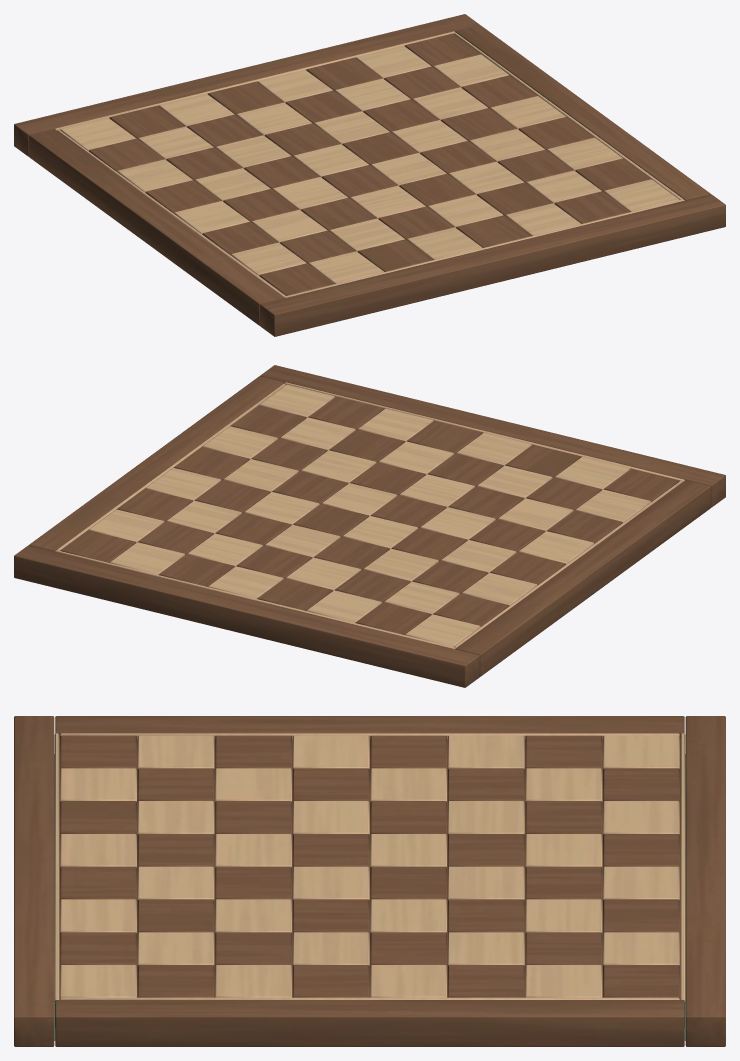
File: board.glb
3 views of the same model, one above another, from view 1: azimuth 30°, elevation 25°; view 2: azimuth 150°, elevation 25°; view 3: azimuth 270°, elevation 25° (orthographic). The views are drawn at different scales.
Parts seen in each view (by area): view 1: chess-board_body; view 2: chess-board_body; view 3: chess-board_body.
Part boxes in pixels (x1,y1,x2,y2): chess-board_body: (14, 14, 725, 336); chess-board_body: (14, 365, 725, 687); chess-board_body: (14, 716, 725, 1046).
Bounding box in the file's own units: 9.18 × 0.464 × 9.18.
Materials: 1 (1 with a texture image).
